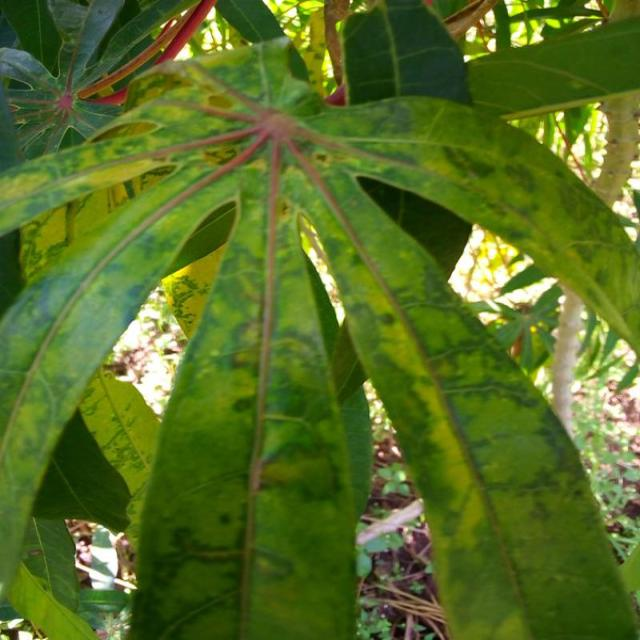cassava leaf: (0, 26, 638, 636), (125, 177, 372, 638)
